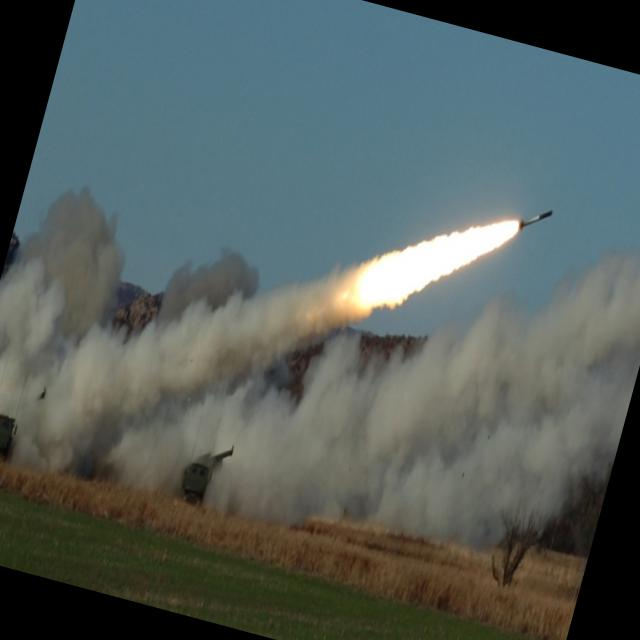rocket: (364, 159, 556, 359)
